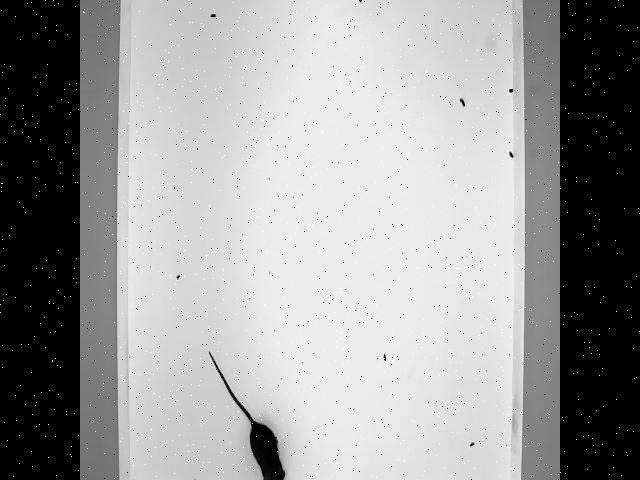Tikus: (206, 351, 286, 480)
